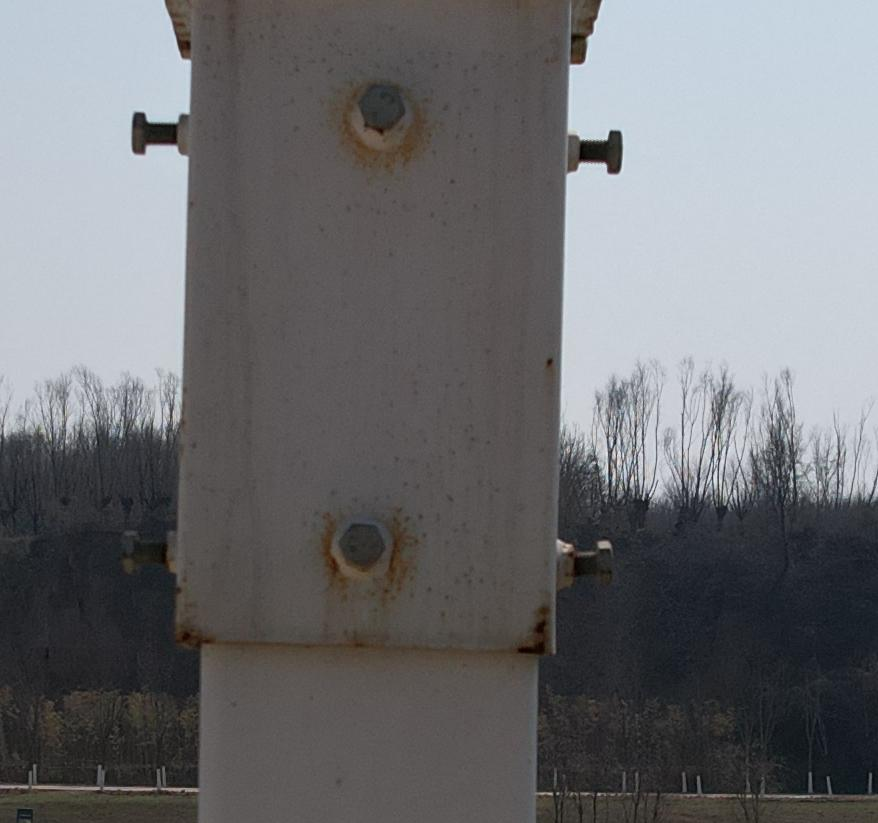bolt_c: (590, 535, 618, 592), (115, 527, 148, 575), (126, 110, 158, 158), (602, 128, 628, 176)
vague: (354, 83, 408, 133), (337, 523, 387, 570)
